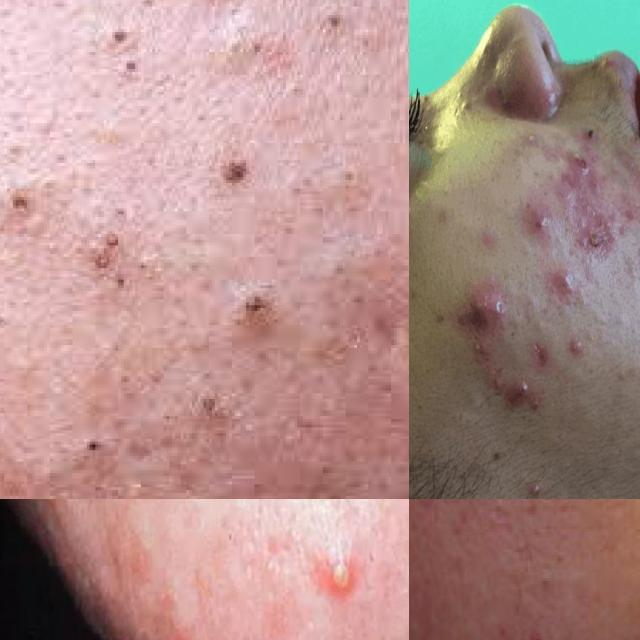comedone: (90, 15, 169, 109), (212, 268, 314, 337), (61, 384, 120, 499), (84, 203, 144, 308), (0, 165, 55, 265), (504, 116, 549, 175), (189, 390, 258, 428), (452, 85, 478, 129), (409, 188, 422, 267), (534, 311, 551, 345)
crystanlline: (455, 281, 512, 341), (555, 150, 597, 214), (494, 376, 543, 430), (580, 228, 616, 272)
papule: (520, 211, 554, 246), (552, 270, 581, 307)
pustule: (518, 472, 553, 499)
